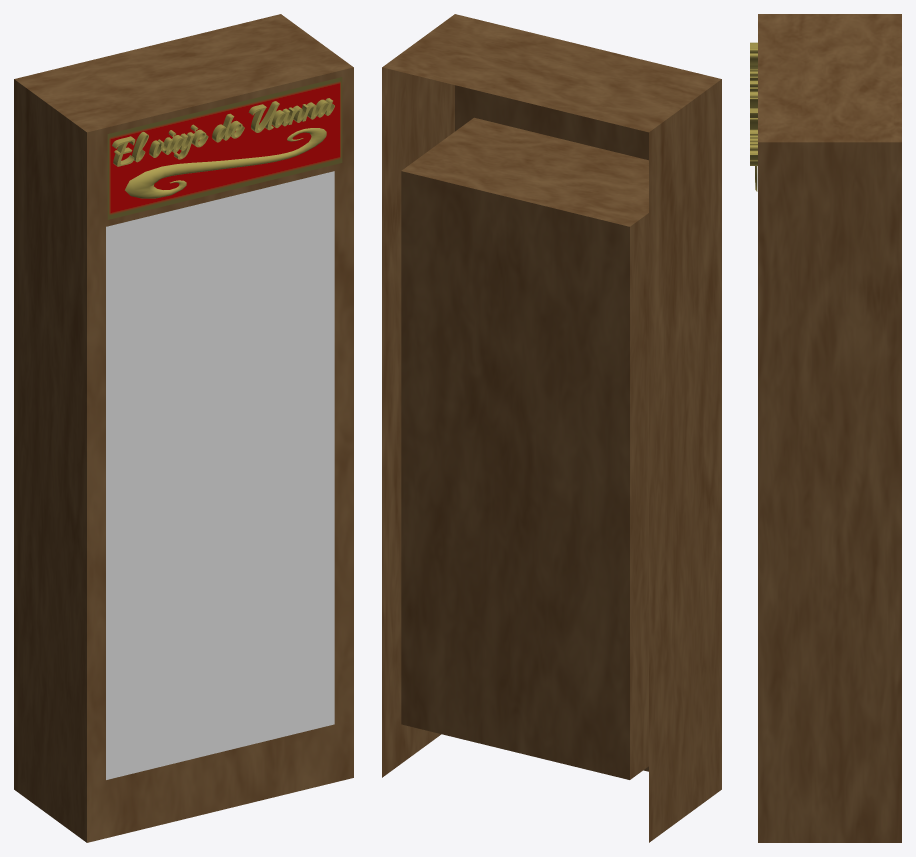
The model's file is rack.glb.
3 views of the same model, side by side, from view 1: azimuth 30°, elevation 25°; view 2: azimuth 150°, elevation 25°; view 3: azimuth 270°, elevation 25° (orthographic).
Visible parts, largest first — view 1: rack.frame, rack.glass.r, rack.glass.l, rack.text.title, rack.title.decoration; view 2: rack.frame; view 3: rack.frame, rack.text.title.
Boxes of the visible parts, box(x1,y1,x2,y2) form: rack.frame: box(14, 14, 353, 842); rack.glass.r: box(220, 171, 334, 752); rack.glass.l: box(106, 199, 220, 779); rack.text.title: box(112, 98, 334, 166); rack.title.decoration: box(125, 128, 326, 198); rack.frame: box(382, 14, 721, 842); rack.frame: box(758, 14, 901, 842); rack.text.title: box(750, 42, 757, 165).
Bounding box in the file's own units: 6 × 15.27 × 3.
Materials: 2 (1 with a texture image).
